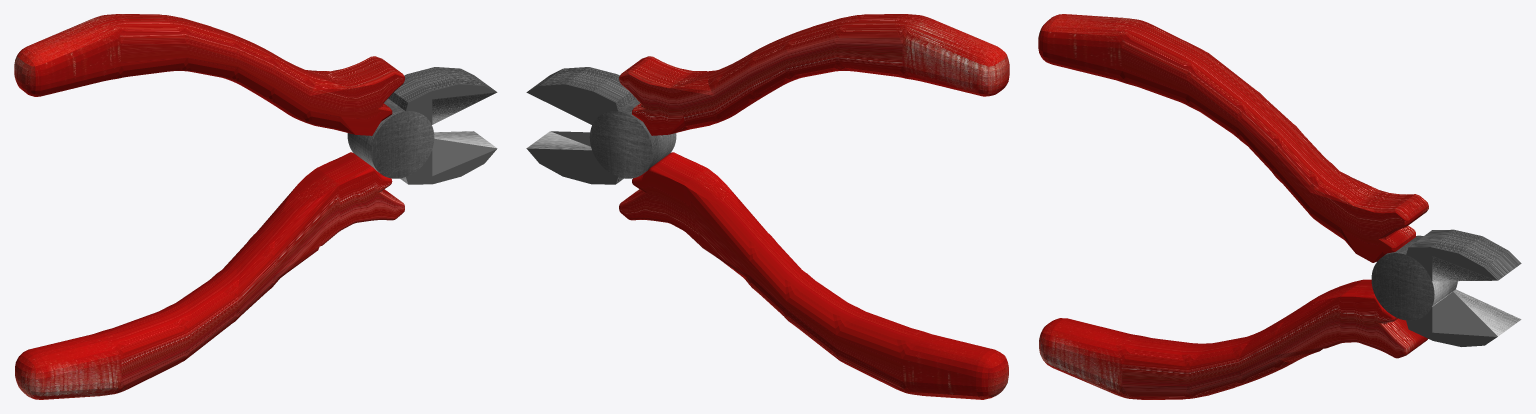
File: nippers.glb
3 renders of one model, left to right at view 1: azimuth 30°, elevation 25°; view 2: azimuth 150°, elevation 25°; view 3: azimuth 330°, elevation 25°, orthographic.
Visible parts, largest first — view 1: Ручки, Головка; view 2: Ручки, Головка; view 3: Ручки, Головка.
Boxes of the visible parts, x1,y1,x2,y2 form: Ручки: [14, 14, 404, 399]; Головка: [347, 67, 497, 184]; Ручки: [619, 14, 1009, 399]; Головка: [526, 67, 676, 184]; Ручки: [1038, 14, 1428, 399]; Головка: [1371, 229, 1521, 346].
Bounding box in the file's own units: 0.218 × 0.166 × 0.0192.
2 materials, 2 textured.
